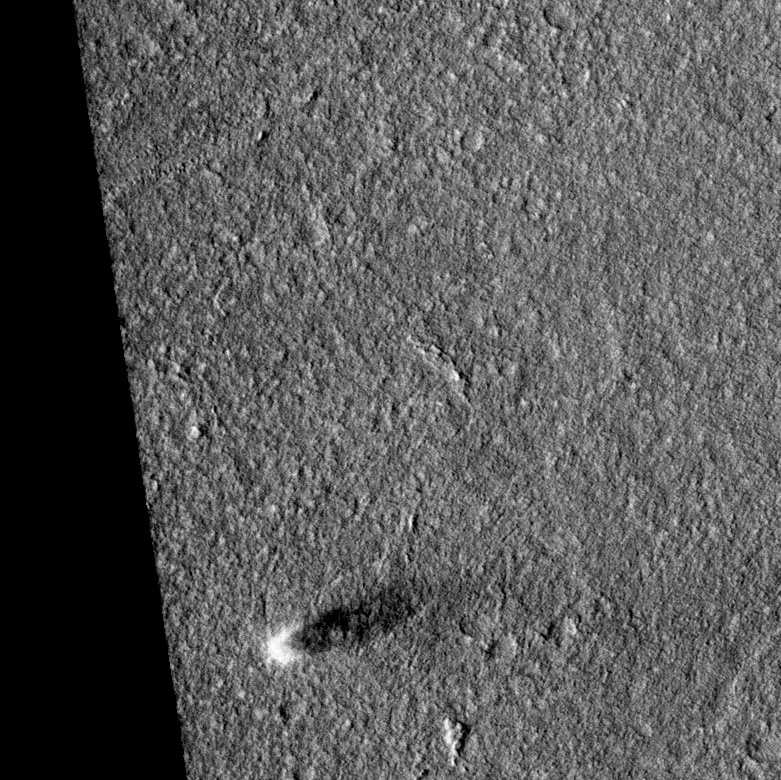dust_devil: (260, 571, 440, 668)
